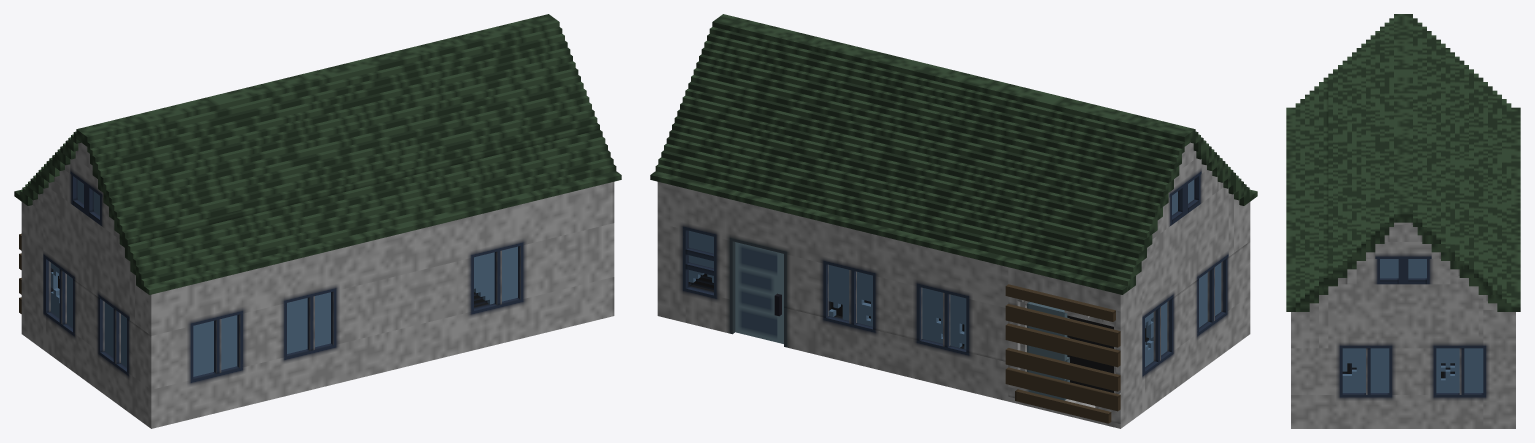
File: domek_2.dae
3 renders of one model, left to right at view 1: azimuth 30°, elevation 25°; view 2: azimuth 150°, elevation 25°; view 3: azimuth 270°, elevation 25°, orthographic. The views are drawn at different scales.
Parts seen in each view (by area): view 1: Content; view 2: Content; view 3: Content.
Boxes of the visible parts, bbox=[...] form: Content: bbox=[14, 14, 621, 428]; Content: bbox=[650, 14, 1257, 428]; Content: bbox=[1286, 14, 1520, 428].
Bounding box in the file's own units: 101 × 51 × 50.
Materials: 1 (1 with a texture image).
